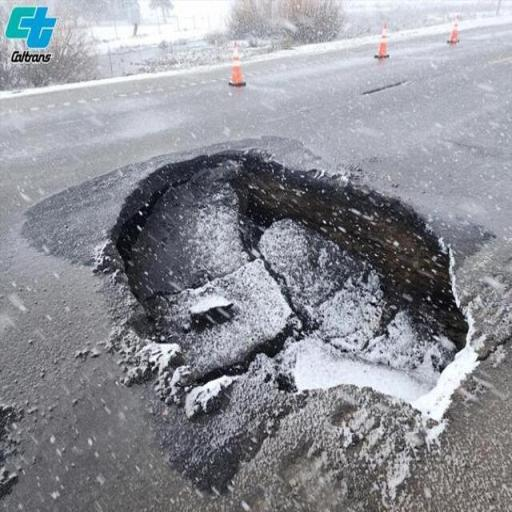Concentric_Crack: (97, 152, 467, 400)
